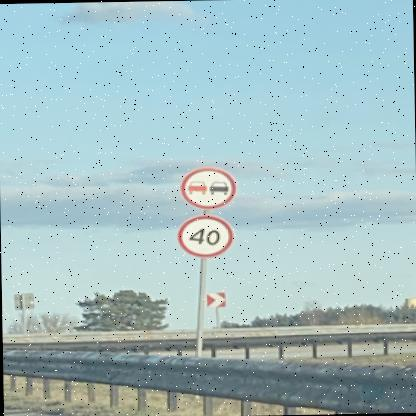speedlimit: (175, 214, 232, 258)
